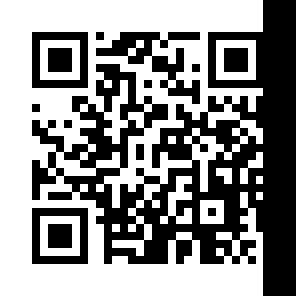QR_CODE: (24, 22, 270, 273)
